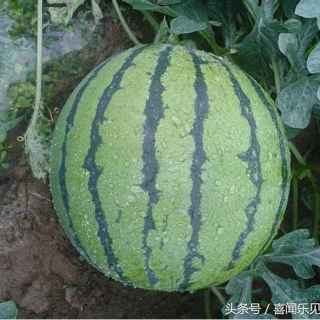dua_hau: (43, 38, 292, 294)
